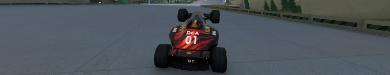Car: (153, 8, 227, 72)
obstacles-Borders: (200, 3, 389, 38)
